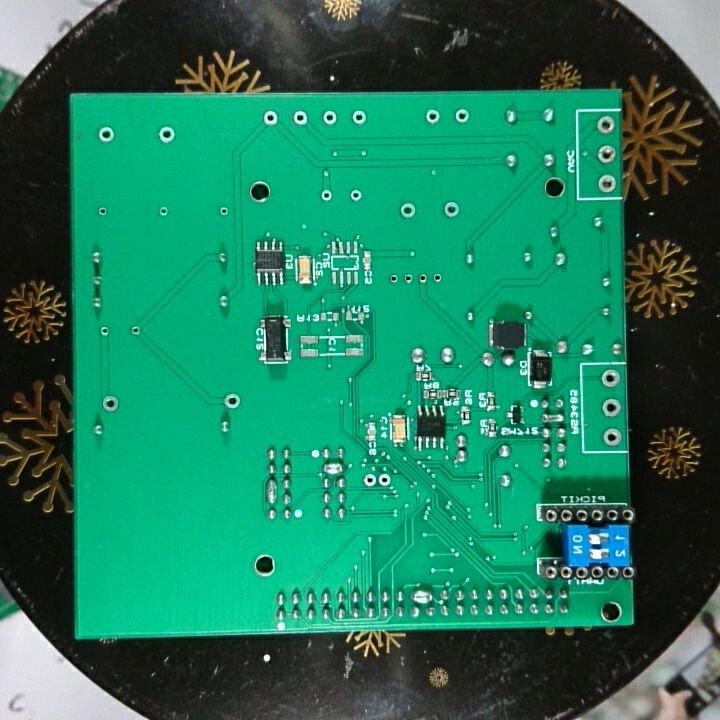F: (599, 395, 623, 420), (595, 172, 619, 195), (98, 392, 122, 415), (595, 143, 617, 166), (349, 106, 371, 129), (601, 423, 622, 447), (594, 112, 615, 135), (398, 200, 419, 223), (599, 368, 621, 389), (96, 125, 117, 147), (221, 391, 243, 412), (422, 107, 442, 127), (441, 199, 462, 218), (156, 125, 177, 144), (453, 107, 473, 126), (290, 109, 311, 127), (260, 109, 279, 128), (321, 107, 339, 127), (346, 187, 365, 203), (362, 472, 378, 491), (377, 472, 393, 491), (128, 322, 142, 343), (386, 270, 401, 289), (155, 203, 171, 220), (414, 271, 431, 287), (319, 186, 334, 203), (96, 323, 111, 340), (400, 272, 415, 289), (94, 203, 110, 218), (431, 271, 443, 288), (216, 203, 229, 218)
P: (319, 458, 348, 477), (411, 586, 434, 606), (540, 410, 565, 426), (264, 477, 278, 504)
